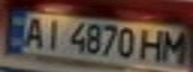0: (115, 25, 139, 60)
4: (63, 20, 87, 53)
7: (100, 23, 121, 57)
8: (81, 21, 103, 56)
A: (18, 15, 48, 49)
H: (136, 26, 169, 64)
I: (39, 16, 66, 51)
M: (157, 28, 193, 65)
